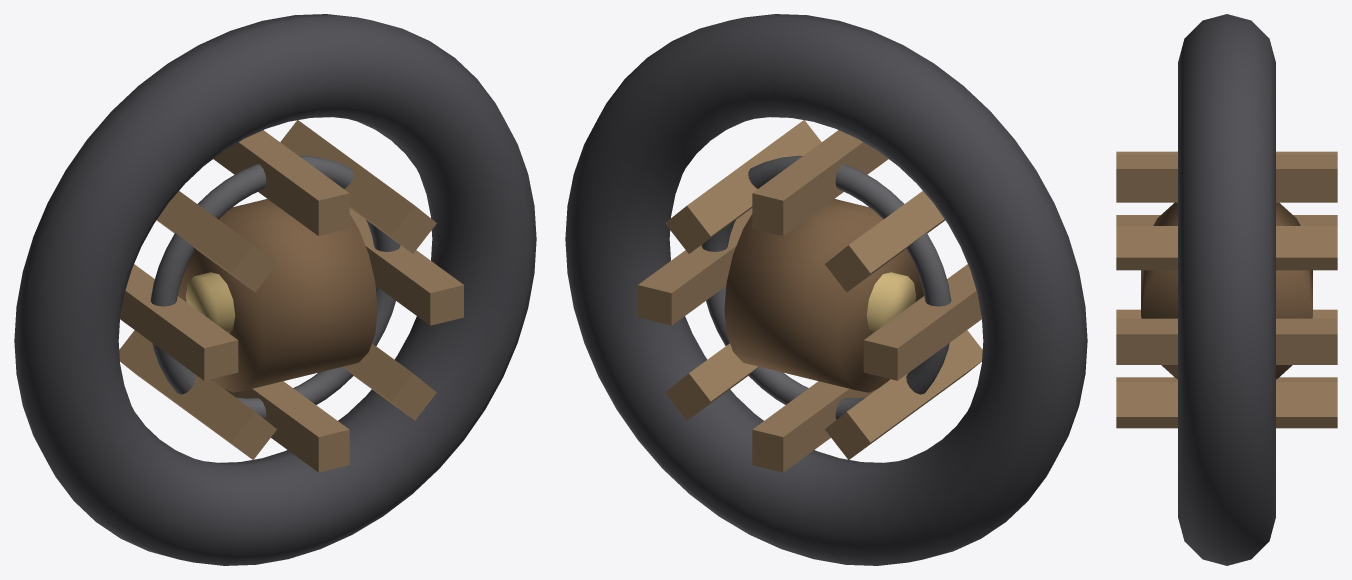
The model's file is wheel.glb.
3 views of the same model, side by side, from view 1: azimuth 30°, elevation 25°; view 2: azimuth 150°, elevation 25°; view 3: azimuth 270°, elevation 25° (orthographic). The views are drawn at different scales.
Parts seen in each view (by area): view 1: Wheel; view 2: Wheel; view 3: Wheel.
Boxes of the visible parts, bbox=[...] form: Wheel: bbox=[14, 14, 536, 565]; Wheel: bbox=[565, 14, 1087, 565]; Wheel: bbox=[1116, 14, 1337, 565].
Size of the model in its own units: 0.9 by 0.9 by 0.36.
